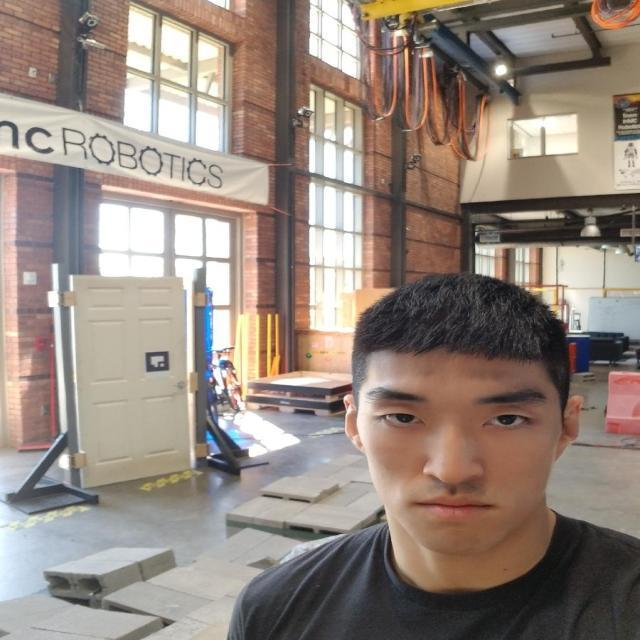door: (64, 272, 196, 489), (175, 381, 190, 392)
